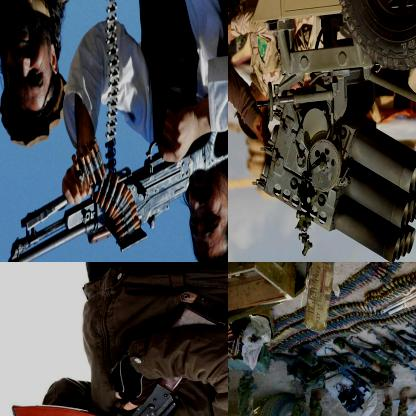rifle: (0, 97, 227, 261), (0, 306, 220, 415), (341, 337, 395, 382), (326, 346, 378, 389), (382, 324, 415, 363)
